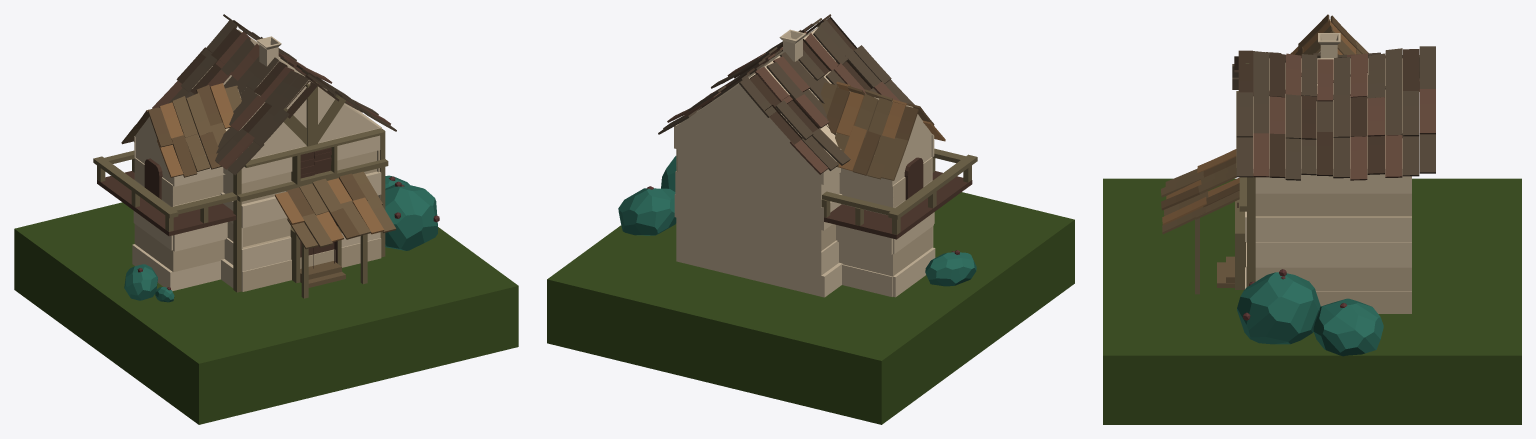
The model's file is 木屋导出2.fbx.
3 views of the same model, side by side, from view 1: azimuth 30°, elevation 25°; view 2: azimuth 150°, elevation 25°; view 3: azimuth 270°, elevation 25° (orthographic). The views are drawn at different scales.
Parts seen in each view (by area): view 1: Cube.002; view 2: Cube.002; view 3: Cube.002.
Boxes of the visible parts, <box> form: Cube.002: <box>14,14,518,424</box>; Cube.002: <box>547,14,1074,424</box>; Cube.002: <box>1103,14,1521,424</box>.
Size of the model in its own units: 491 by 388 by 484.
